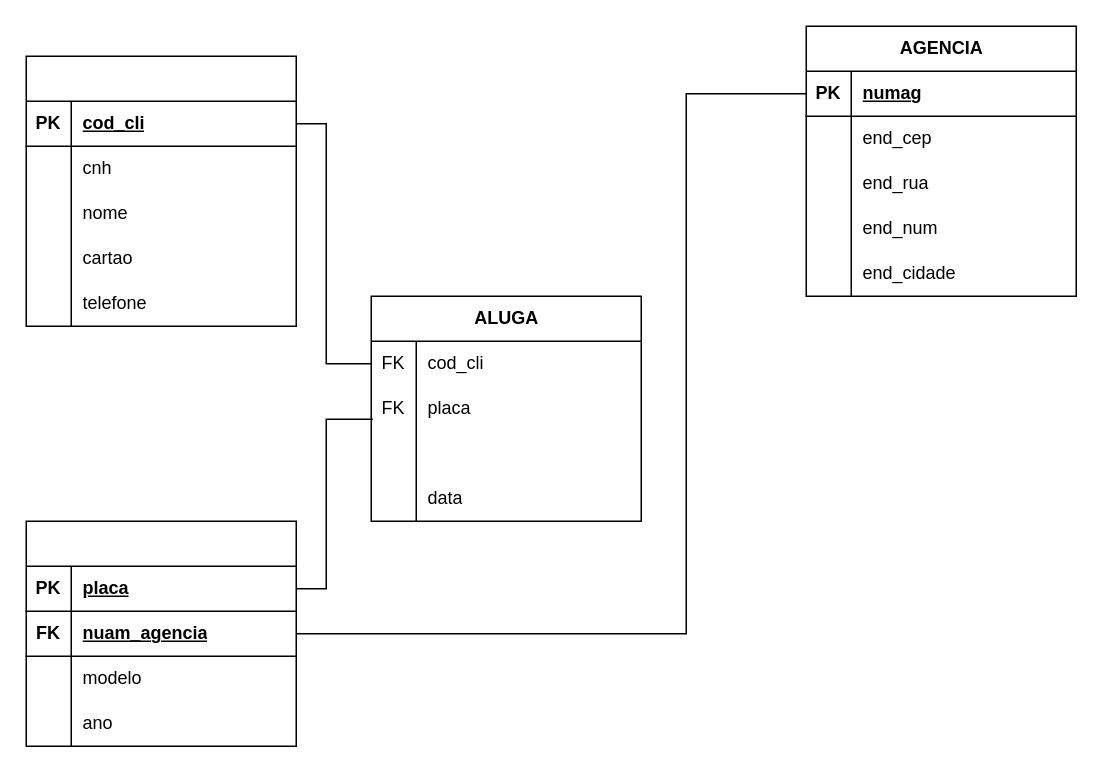
Image size: 1103x773. Some labels were removed from this diagram. Each missing label, with the box of its shape:
CARRO: (25, 520, 296, 746)
CLIENTE: (25, 55, 296, 326)
